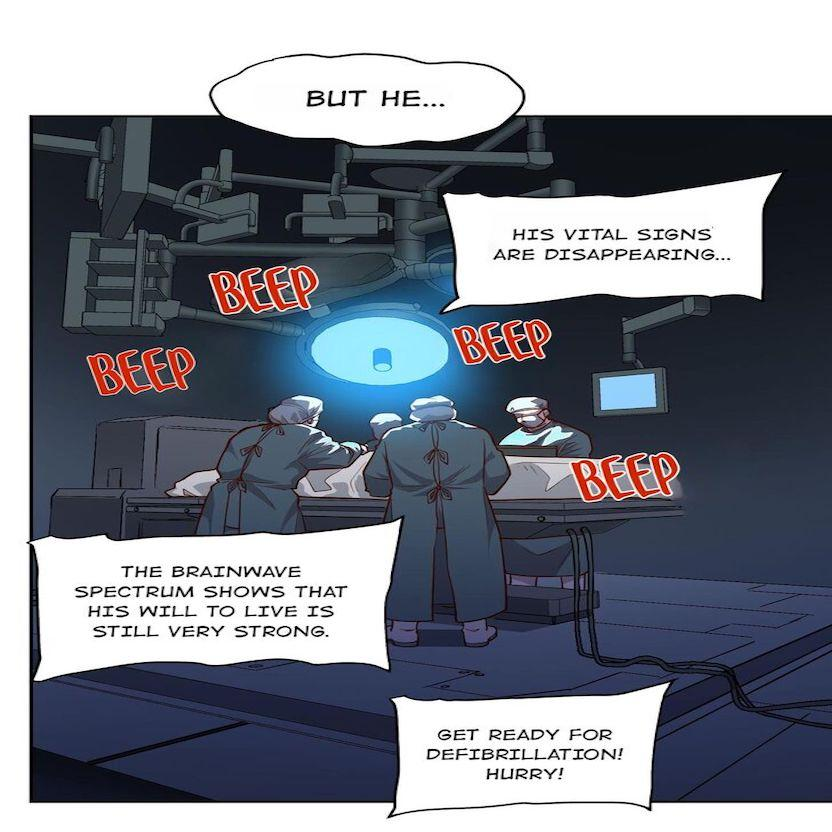Bubble: (23, 513, 404, 684), (436, 167, 789, 315), (390, 692, 665, 817), (205, 47, 532, 149)
